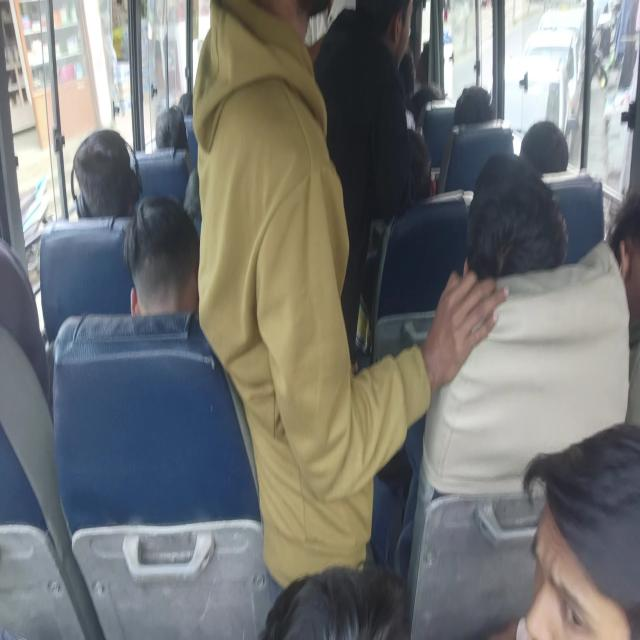person: (202, 0, 345, 229), (503, 443, 640, 640), (244, 520, 366, 640), (461, 165, 566, 296), (130, 208, 214, 349), (595, 176, 640, 357), (339, 0, 417, 79), (61, 138, 122, 229), (518, 113, 584, 194), (0, 256, 46, 371), (394, 114, 438, 215), (454, 74, 511, 143), (150, 112, 192, 158), (173, 81, 196, 122)
